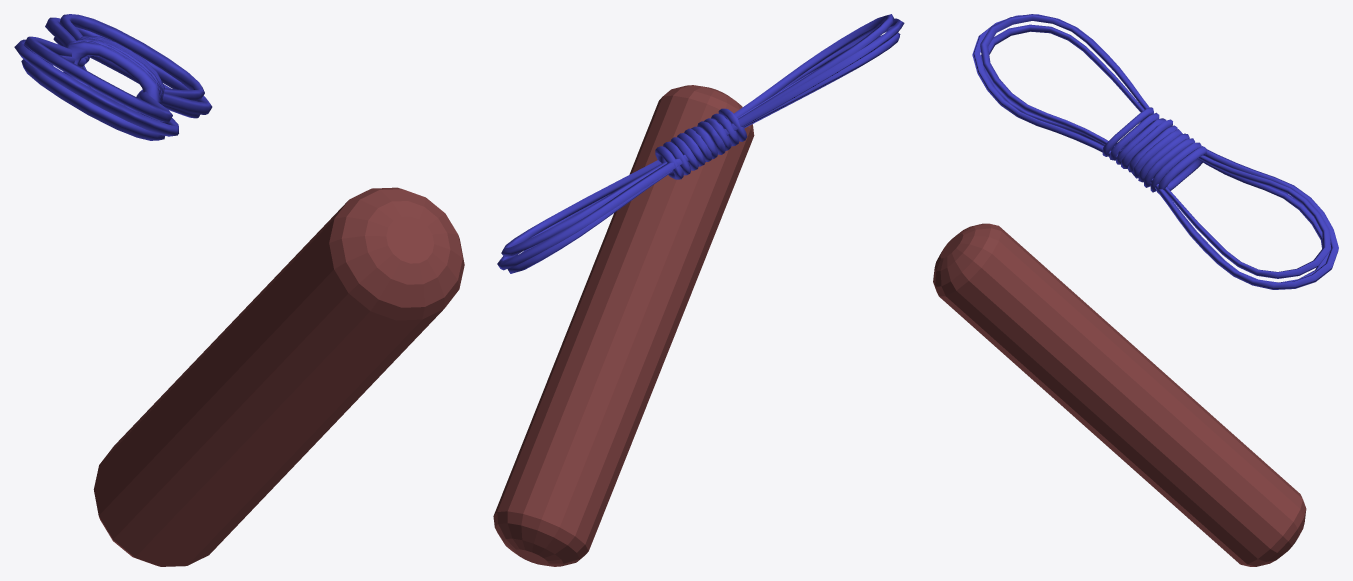
The model's file is stick_rope.glb.
3 renders of one model, left to right at view 1: azimuth 30°, elevation 25°; view 2: azimuth 150°, elevation 25°; view 3: azimuth 270°, elevation 25°, orthographic. The views are drawn at different scales.
Visible parts, largest first — view 1: Cylinder.001; view 2: Cylinder.001; view 3: Cylinder.001.
Boxes of the visible parts, x1,y1,x2,y2 form: Cylinder.001: (14,14,464,566); Cylinder.001: (493,14,904,566); Cylinder.001: (933,14,1338,566).
Size of the model in its own units: 0.4655 by 0.8377 by 0.678.
